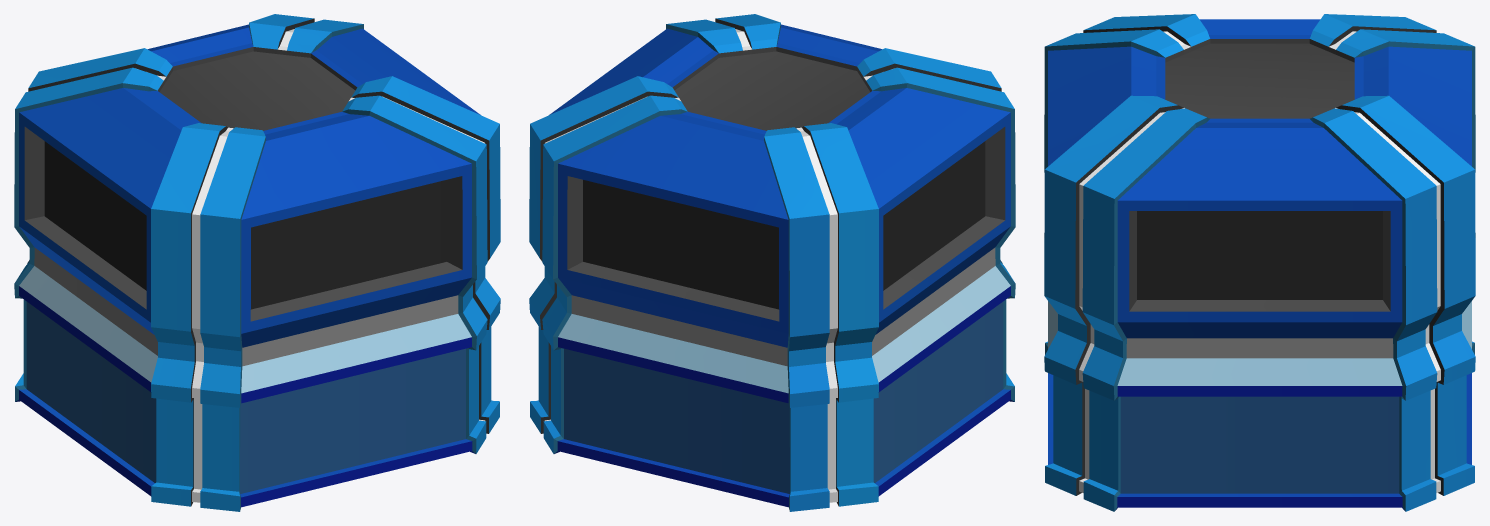
File: Future Small Crate Blue.fbx
3 views of the same model, side by side, from view 1: azimuth 30°, elevation 25°; view 2: azimuth 150°, elevation 25°; view 3: azimuth 270°, elevation 25° (orthographic). The views are drawn at different scales.
Parts seen in each view (by area): view 1: Future Small Crate Blue; view 2: Future Small Crate Blue; view 3: Future Small Crate Blue.
Part boxes in pixels (x1,y1,x2,y2): Future Small Crate Blue: [14, 14, 500, 511]; Future Small Crate Blue: [529, 14, 1015, 511]; Future Small Crate Blue: [1044, 14, 1475, 511].
Size of the model in its own units: 310 by 344 by 344.
Materials: 1 (1 with a texture image).
